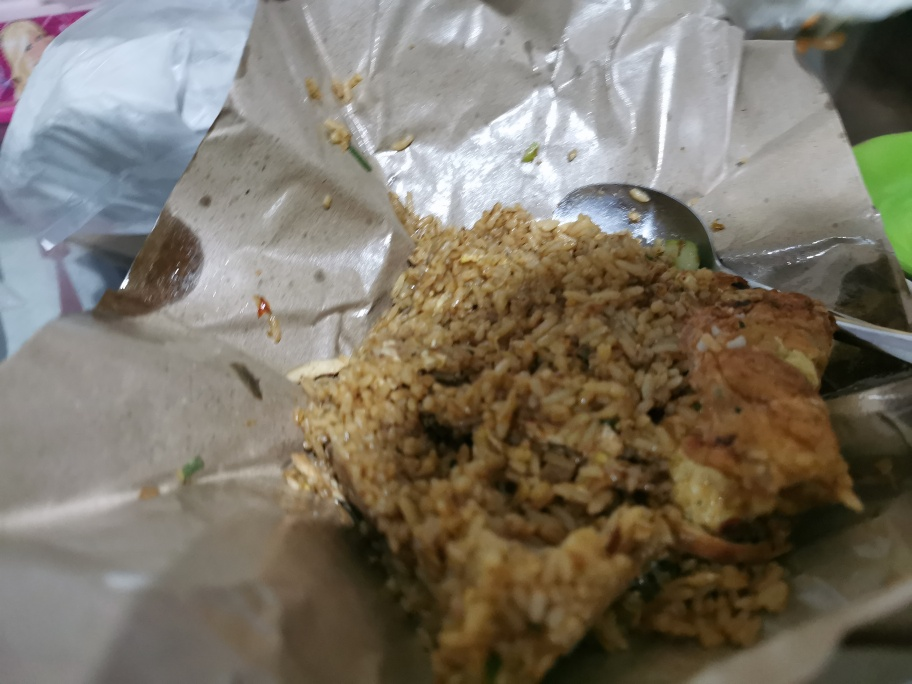nasi goreng: (316, 194, 845, 667)
